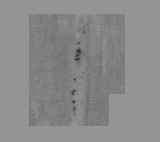oxl: (35, 10, 125, 132)
